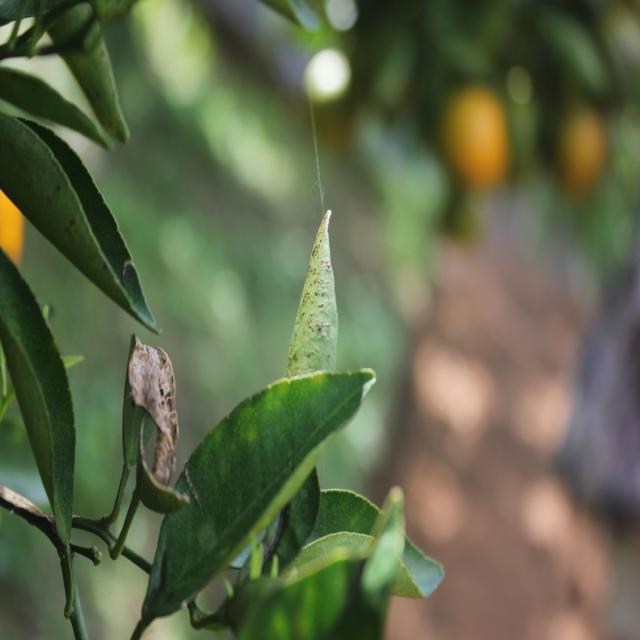melanose: (0, 120, 158, 320), (275, 208, 347, 402)
